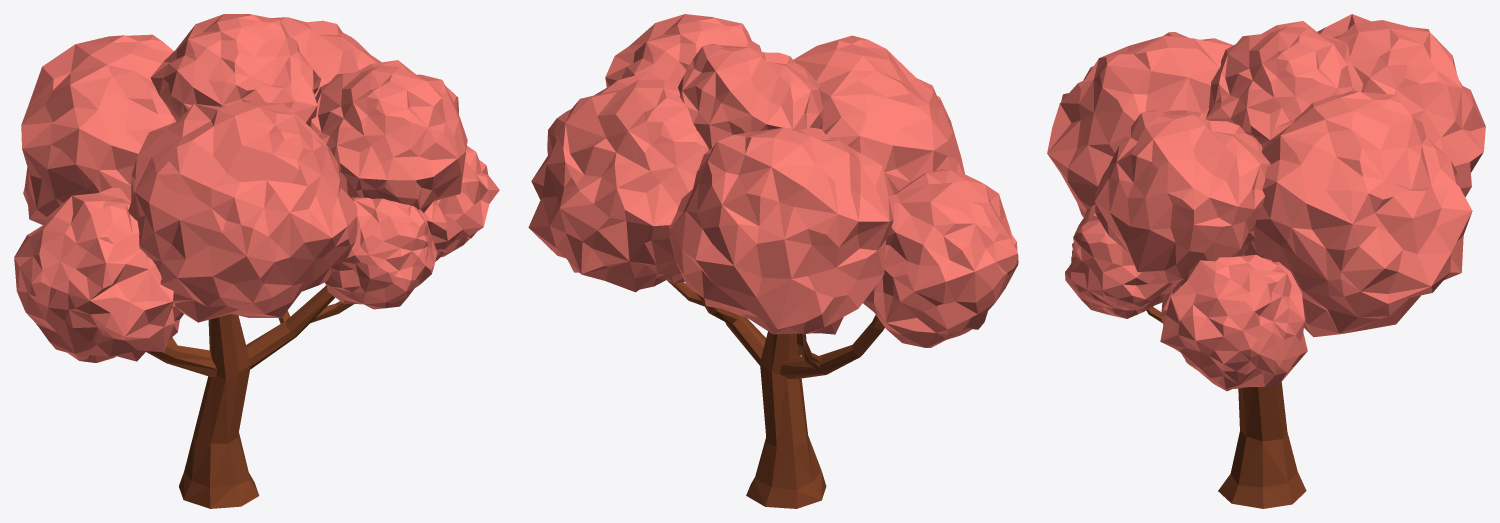
Rendered from burning-tree1.glb.
The picture shows the model from 3 angles, left to right: view 1: azimuth 30°, elevation 25°; view 2: azimuth 150°, elevation 25°; view 3: azimuth 270°, elevation 25°; orthographic projection. The views are drawn at different scales.
Parts seen in each view (by area): view 1: Tree.3; view 2: Tree.3; view 3: Tree.3.
Boxes of the visible parts, box(x1,y1,x2,y2) form: Tree.3: box(14, 14, 499, 508); Tree.3: box(528, 14, 1018, 508); Tree.3: box(1047, 14, 1485, 508).
Size of the model in its own units: 0.5727 by 0.5331 by 0.4464.
